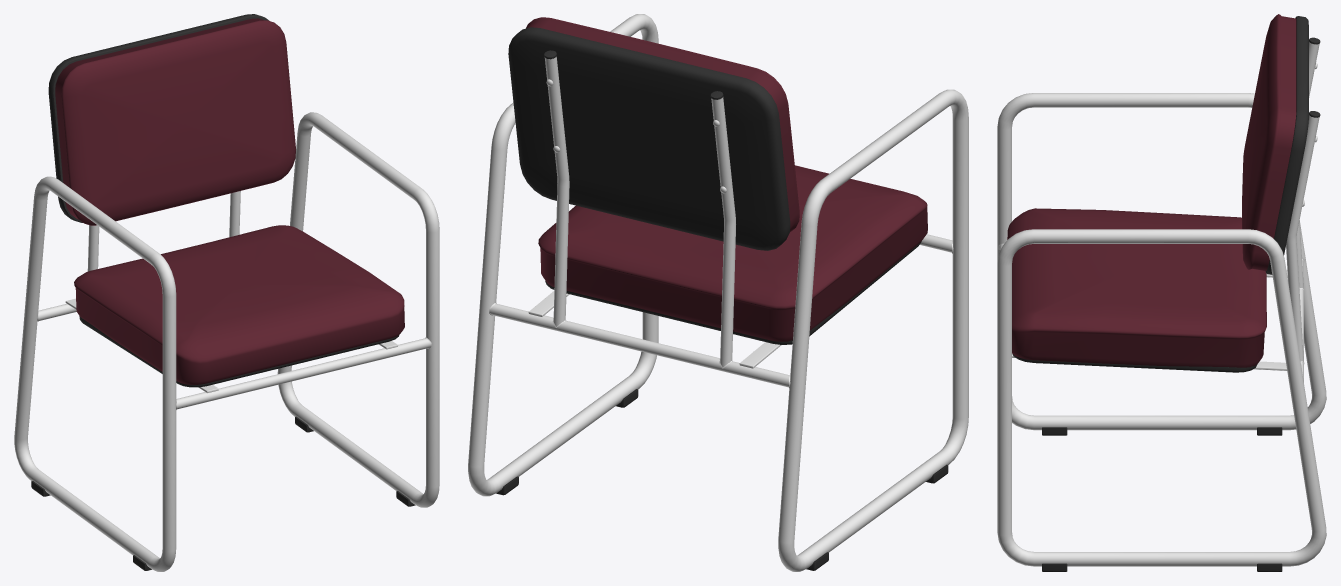
The model's file is Kit_GuestChairSled_Burgundy.fbx.
3 views of the same model, side by side, from view 1: azimuth 30°, elevation 25°; view 2: azimuth 150°, elevation 25°; view 3: azimuth 270°, elevation 25° (orthographic). The views are drawn at different scales.
Parts seen in each view (by area): view 1: Kit_GuestChairSled_LOD0; view 2: Kit_GuestChairSled_LOD0; view 3: Kit_GuestChairSled_LOD0.
Boxes of the visible parts, x1,y1,x2,y2 form: Kit_GuestChairSled_LOD0: (14, 14, 439, 571); Kit_GuestChairSled_LOD0: (468, 14, 968, 571); Kit_GuestChairSled_LOD0: (997, 14, 1326, 571).
Size of what is drawn, in the model's own units: 0.59 by 0.8391 by 0.5699.
